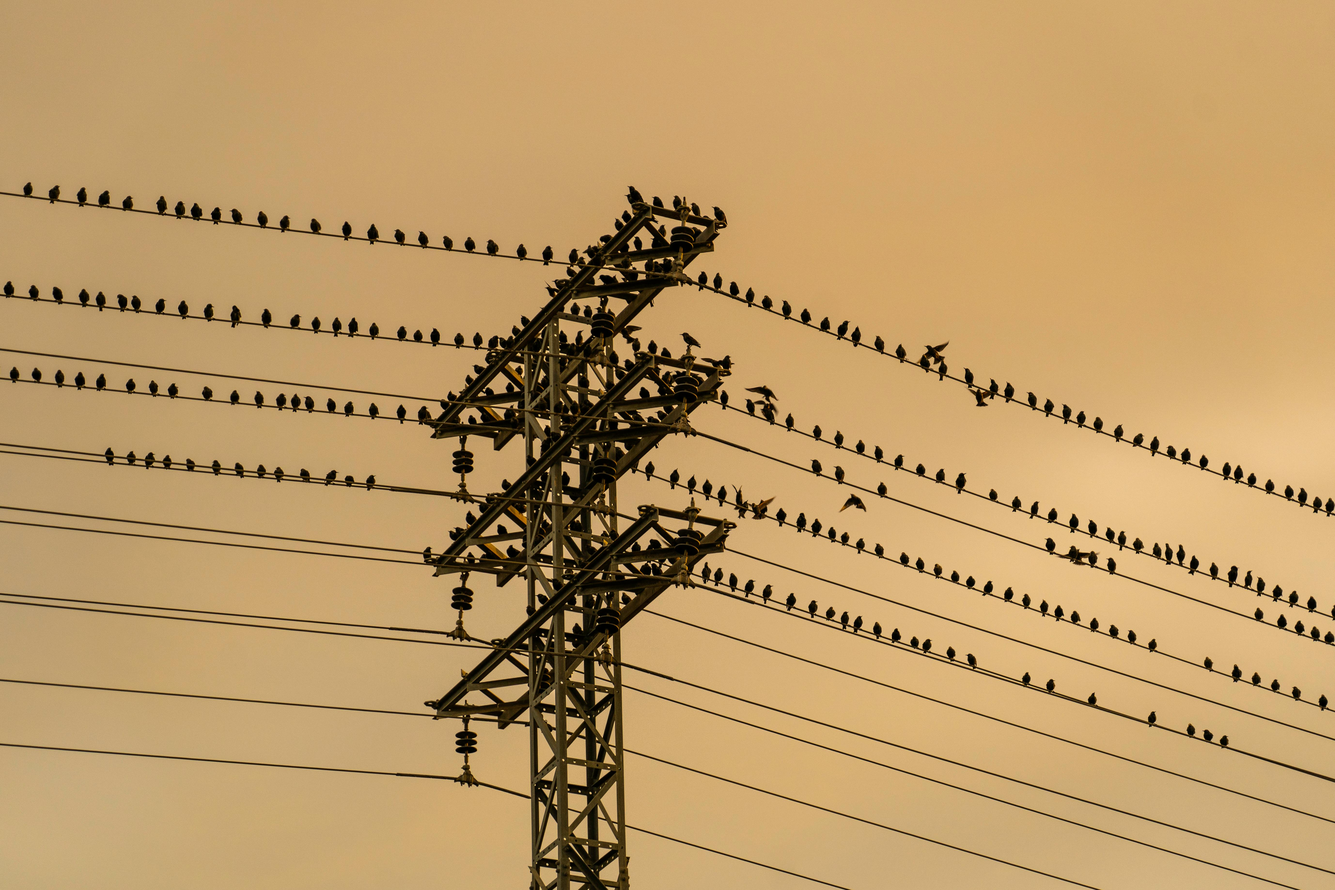insulator: (447, 703, 485, 785), (448, 570, 480, 636), (446, 435, 479, 490)
